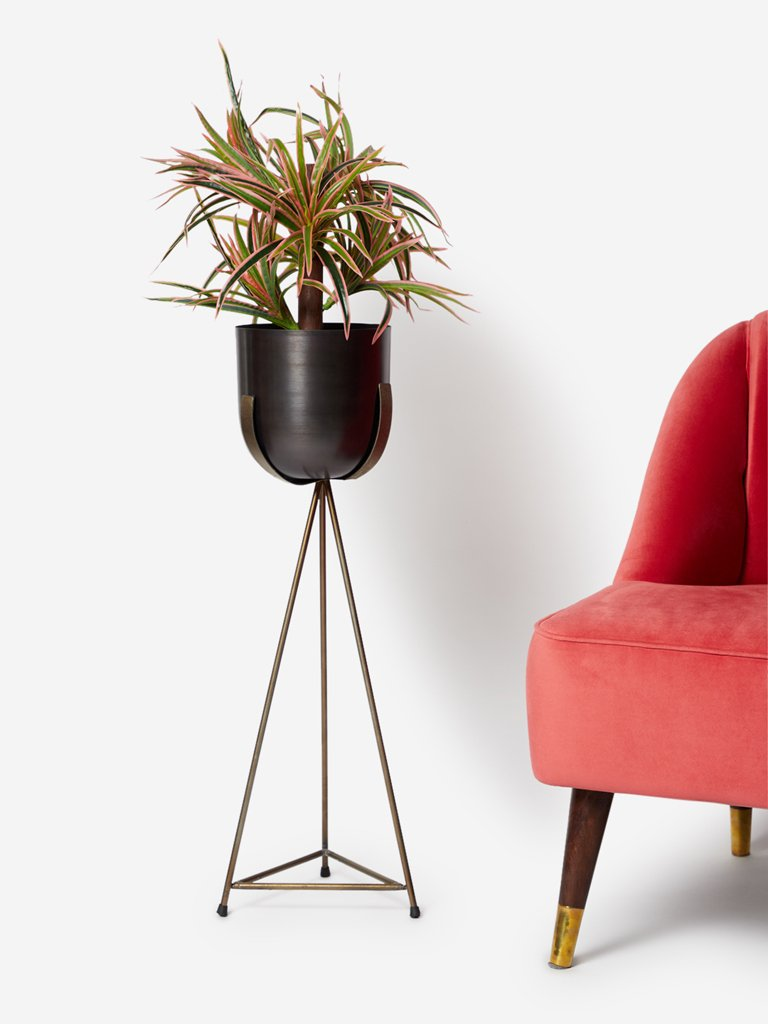tanaman: (174, 87, 410, 488)
